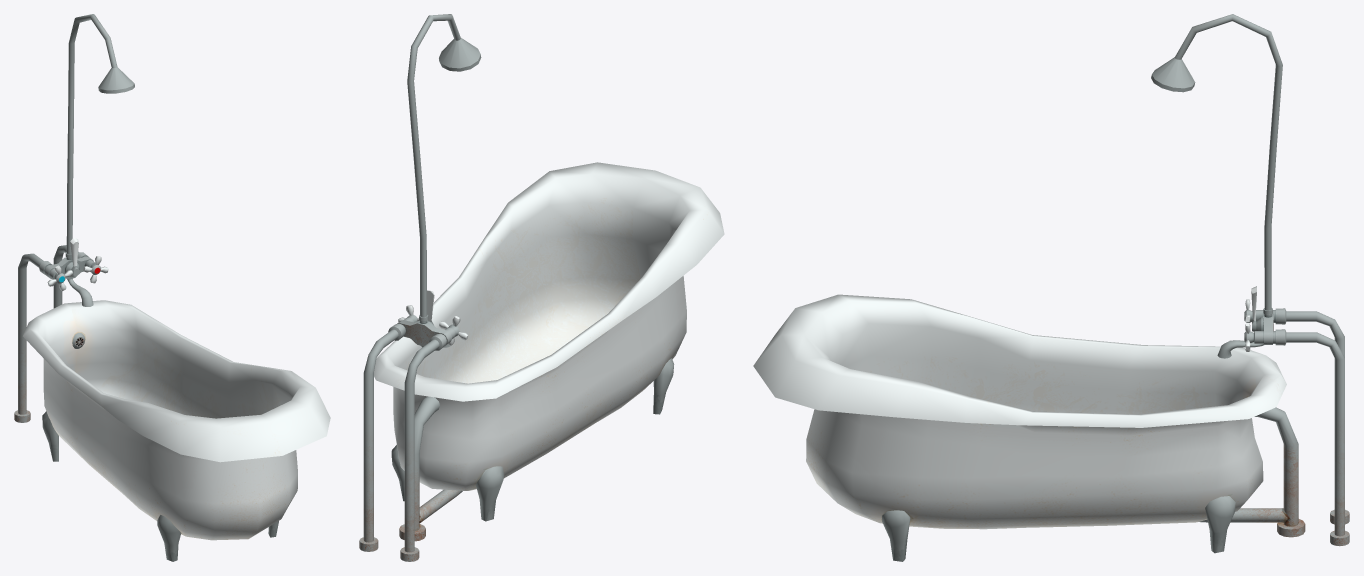
File: bath2.glb
3 views of the same model, side by side, from view 1: azimuth 30°, elevation 25°; view 2: azimuth 150°, elevation 25°; view 3: azimuth 270°, elevation 25° (orthographic). The views are drawn at different scales.
Visible parts, largest first — view 1: Object_2; view 2: Object_2; view 3: Object_2.
Boxes of the visible parts, x1,y1,x2,y2 form: Object_2: (14,14,330,561); Object_2: (359,14,724,561); Object_2: (753,14,1349,561).
Bounding box in the file's own units: 84.64 × 213 × 220.
1 material, 1 textured.
